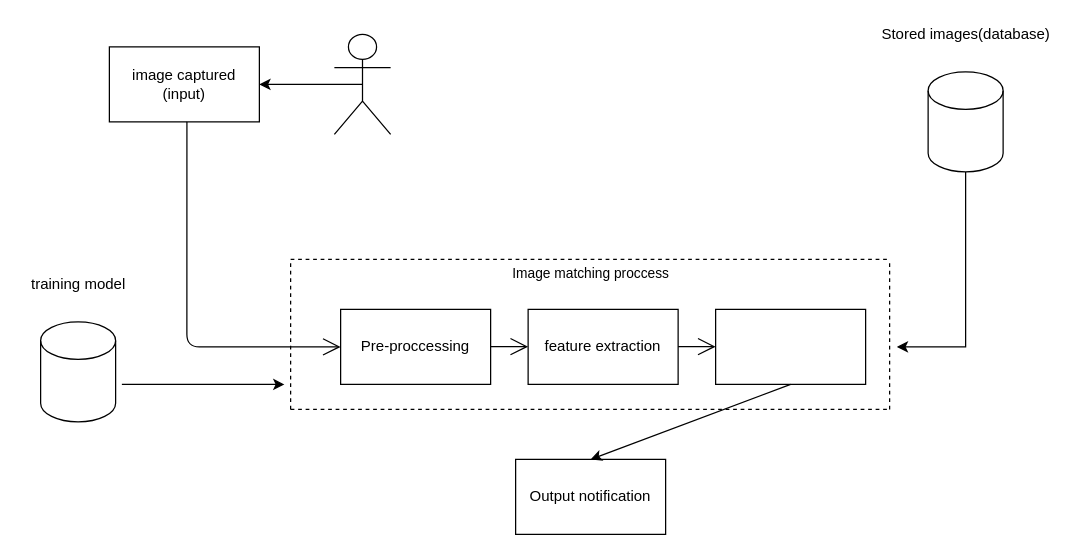
The diagram is 1080 pixels wide and 556 high, and some of its shapes have lost their labels. Here are the shapes that lost their labels. From the top down, the centre of each, then its label:
(362,83): Student
(790,346): classifier
